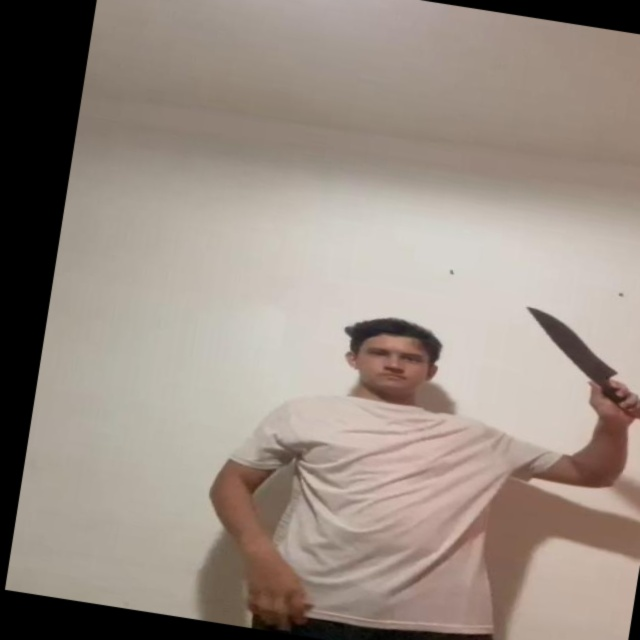Sharp-Object: (514, 305, 626, 379)
